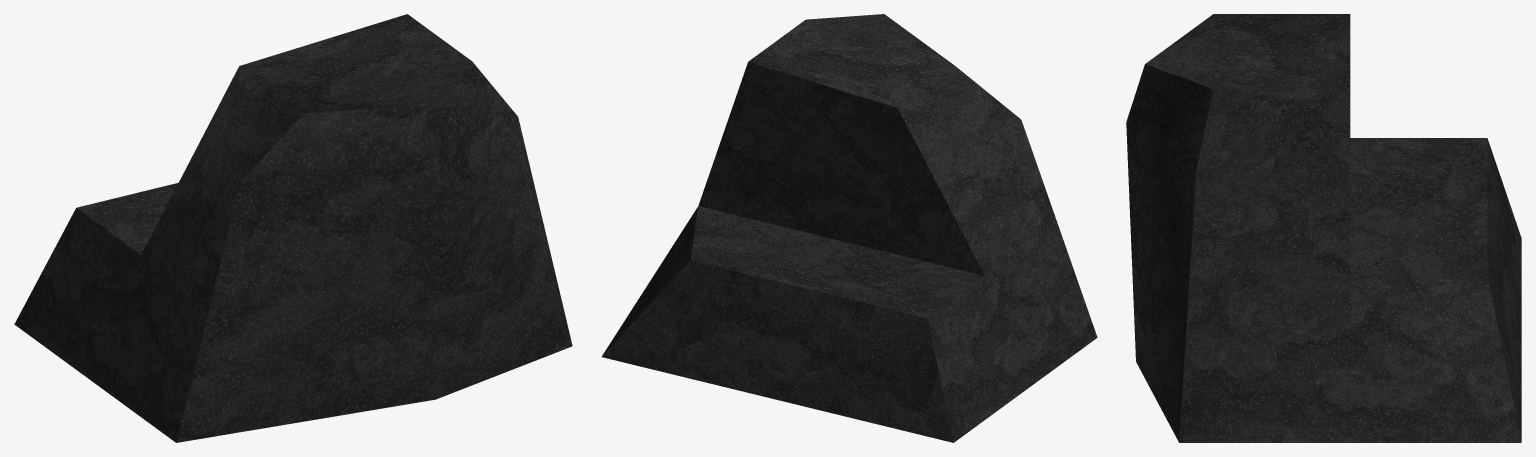
File: rock_2.fbx
3 views of the same model, side by side, from view 1: azimuth 30°, elevation 25°; view 2: azimuth 150°, elevation 25°; view 3: azimuth 270°, elevation 25° (orthographic). The views are drawn at different scales.
Visible parts, largest first — view 1: Rock2.001; view 2: Rock2.001; view 3: Rock2.001.
Boxes of the visible parts, x1,y1,x2,y2 form: Rock2.001: (14,14,572,442); Rock2.001: (601,14,1097,442); Rock2.001: (1126,14,1521,442).
Bounding box in the file's own units: 707 × 500 × 577.
